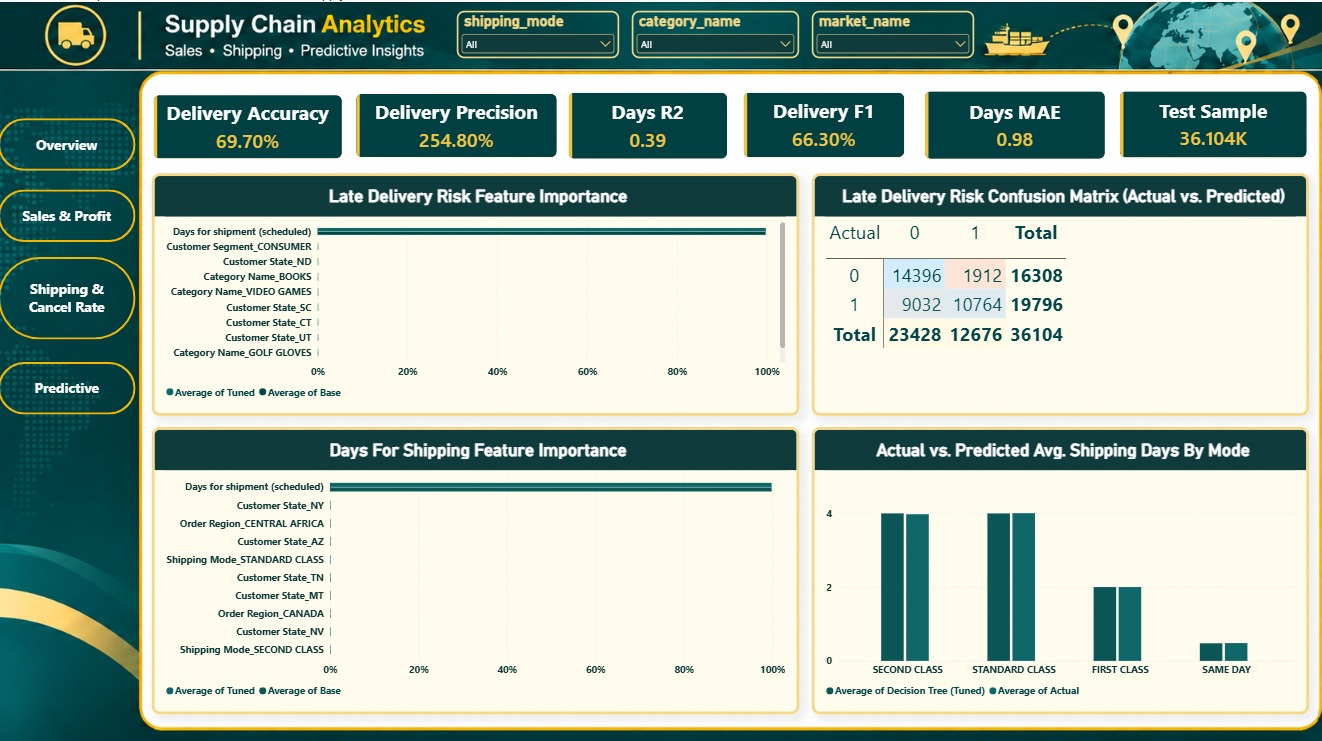

This screenshot's page, from the dashboard's own definition file:
{"tool":"powerbi","page":{"name":"Predictive ","canvas":[1920,1080],"ordinal":3},"visuals":[{"type":"cardVisual","title":"Test Sample","fields":{"Data":["CountNonNull(bpo_predictions.Order Item Id)"]},"box":[1625.1,161.6,276.9,101.3],"z":0},{"type":"slicer","fields":{"Values":["dim_shipping_mode.shipping_mode"]},"box":[664.1,12.7,235.3,68.8],"z":1000},{"type":"slicer","fields":{"Values":["dim_market.market_name"]},"box":[1178.1,12.7,235.3,68.8],"z":2000},{"type":"slicer","fields":{"Values":["vw_dim_product_flat.category_name"]},"box":[917.5,12.7,242.5,68.8],"z":3000},{"type":"cardVisual","title":"Late Delivery F1 ","fields":{"Data":["Avg(ldr_comparison.F1)"]},"box":[1080.4,165.2,238.9,99.5],"z":4000},{"type":"cardVisual","title":"Late Delivery Accuracy","fields":{"Data":["Avg(ldr_comparison.Accuracy)"]},"box":[223.3,168.9,278.7,97.7],"z":5000},{"type":"cardVisual","title":"Shipping Days R2","fields":{"Data":["Sum(dfs_comparison.R2)"]},"box":[828,165.2,235.3,101.3],"z":6000},{"type":"cardVisual","title":"Shipping Days MAE","fields":{"Data":["Sum(dfs_comparison.MAE)"]},"box":[1340,161.6,266,103.2],"z":7000},{"type":"pivotTable","title":"Late Delivery Risk Confusion Matrix (Actual vs. Predicted)","fields":{"Columns":["ldr_predictions.Decision Tree (Tuned)"],"Rows":["ldr_predictions.Actual"],"Values":["CountNonNull(ldr_predictions.Order Item Id)"]},"box":[1182.1,270.5,720.2,351.1],"z":8000},{"type":"clusteredBarChart","title":"Late Delivery Risk Feature Importance","fields":{"Category":["ldr_importance.Feature"],"Y":["Avg(ldr_importance.Tuned)","Avg(ldr_importance.Base)"]},"box":[223.3,270.5,937.4,351.1],"z":9000},{"type":"clusteredColumnChart","title":"Actual vs. Predicted Avg. Shipping Days By Mode","fields":{"Category":["dim_shipping_mode.shipping_mode"],"Y":["Avg(dfs_predictions.Decision Tree (Tuned))","Avg(dfs_predictions.Actual)"]},"box":[1180.2,628.2,720.2,416.2],"z":10000},{"type":"clusteredBarChart","title":"Days For Shipping Feature Importance","fields":{"Category":["dfs_importance.Feature"],"Y":["Avg(dfs_importance.Tuned)","Avg(dfs_importance.Base)"]},"box":[223.3,628.2,937.4,416.2],"z":11000},{"type":"cardVisual","fields":{"Data":["Sum(ldr_comparison.Precision)"]},"box":[515.7,168.9,296.8,97.7],"z":12000},{"type":"actionButton","box":[0,168.3,199.1,76],"z":13000},{"type":"actionButton","box":[0,271.4,199.1,76],"z":14000},{"type":"actionButton","box":[0,369.2,199.1,119.4],"z":15000},{"type":"actionButton","box":[0,521.2,199.1,76],"z":16000},{"type":"htmlContent443BE3AD55E043BF878BED274D3A6855","fields":{"content":["Measures (2).Tag3"]},"box":[223.3,107.1,1675.9,56.3],"z":17000}]}

Visuals, with their boxes in screenshot pixels (x1, y1, x2, y2), scaled from the page's 1920x1080 canvas onto the 1322x741 screenshot:
"Test Sample" cardVisual: 1119, 111, 1310, 180
slicer - dim_shipping_mode.shipping_mode: 457, 9, 619, 56
slicer - dim_market.market_name: 811, 9, 973, 56
slicer - vw_dim_product_flat.category_name: 632, 9, 799, 56
"Late Delivery F1 " cardVisual: 744, 113, 908, 182
"Late Delivery Accuracy" cardVisual: 154, 116, 346, 183
"Shipping Days R2" cardVisual: 570, 113, 732, 183
"Shipping Days MAE" cardVisual: 923, 111, 1106, 182
"Late Delivery Risk Confusion Matrix (Actual vs. Predicted)" pivotTable: 814, 186, 1310, 426
"Late Delivery Risk Feature Importance" clusteredBarChart: 154, 186, 799, 426
"Actual vs. Predicted Avg. Shipping Days By Mode" clusteredColumnChart: 813, 431, 1309, 717
"Days For Shipping Feature Importance" clusteredBarChart: 154, 431, 799, 717
cardVisual - Sum(ldr_comparison.Precision): 355, 116, 559, 183
actionButton: 0, 115, 137, 168
actionButton: 0, 186, 137, 238
actionButton: 0, 253, 137, 335
actionButton: 0, 358, 137, 410
htmlContent443BE3AD55E043BF878BED274D3A6855 - Measures (2).Tag3: 154, 73, 1308, 112
